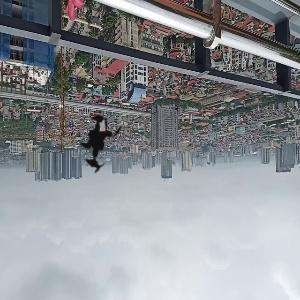drone: (60, 101, 147, 188)
